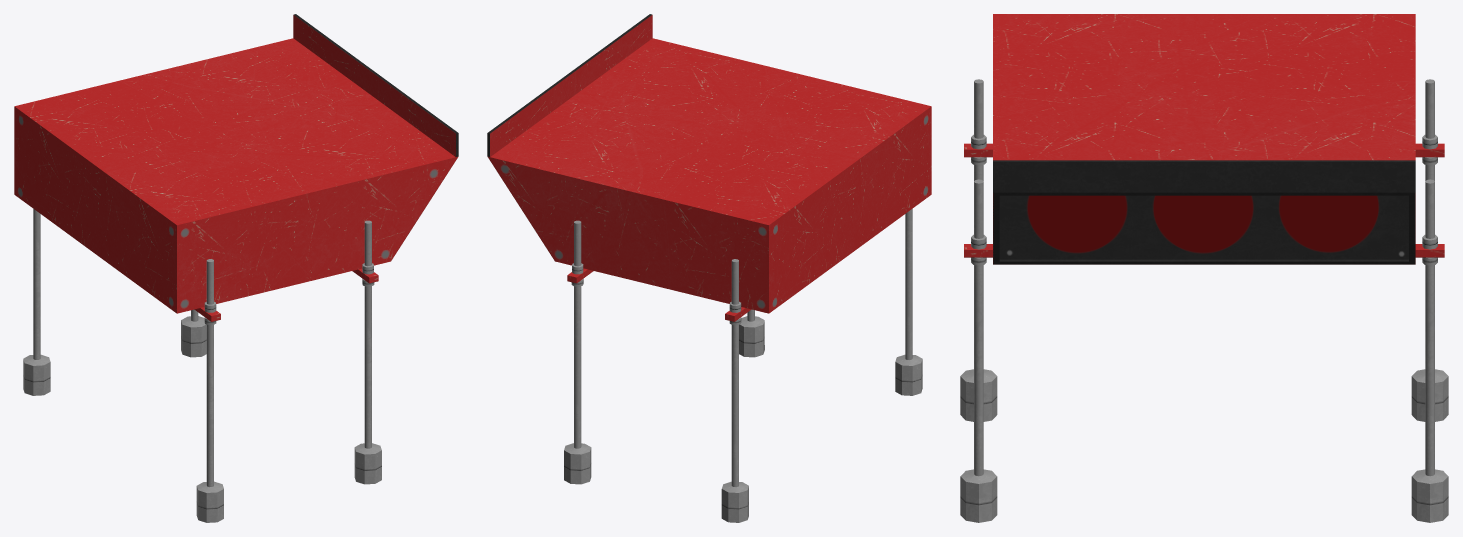
The model's file is SM_Runway_Lamp_PAPI_Red.fbx.
3 renders of one model, left to right at view 1: azimuth 30°, elevation 25°; view 2: azimuth 150°, elevation 25°; view 3: azimuth 270°, elevation 25°, orthographic. The views are drawn at different scales.
Parts seen in each view (by area): view 1: SM_Runway_Lamp_PAPI_Red; view 2: SM_Runway_Lamp_PAPI_Red; view 3: SM_Runway_Lamp_PAPI_Red.
Part boxes in pixels (x1,y1,x2,y2): SM_Runway_Lamp_PAPI_Red: (14,14,458,522); SM_Runway_Lamp_PAPI_Red: (487,14,931,522); SM_Runway_Lamp_PAPI_Red: (960,14,1448,522).
Bounding box in the file's own units: 0.5 × 0.5401 × 0.5771.
